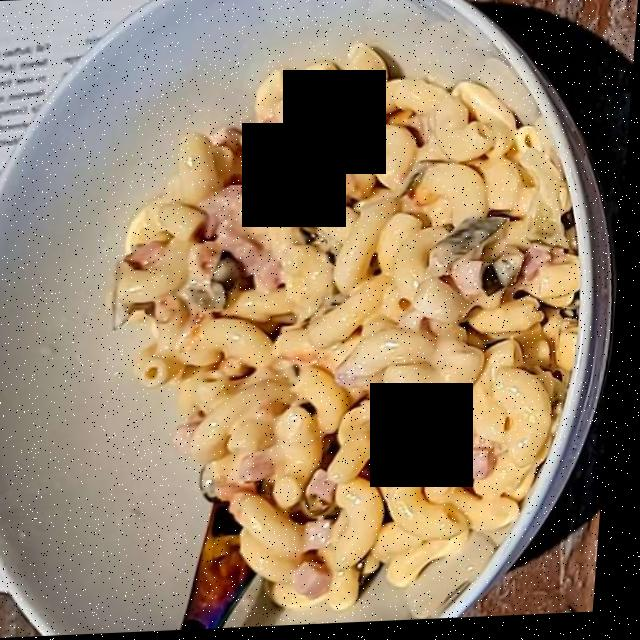ham: (134, 185, 587, 600)
leek: (171, 206, 528, 340)
pasta-hornli: (126, 65, 578, 601)
